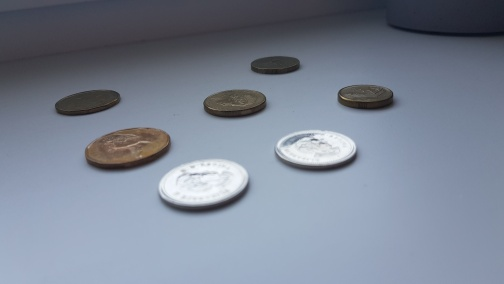coin: (157, 159, 249, 210), (85, 127, 171, 170), (274, 129, 358, 171), (203, 88, 267, 117), (55, 90, 121, 115), (337, 84, 393, 107), (250, 55, 300, 75)
